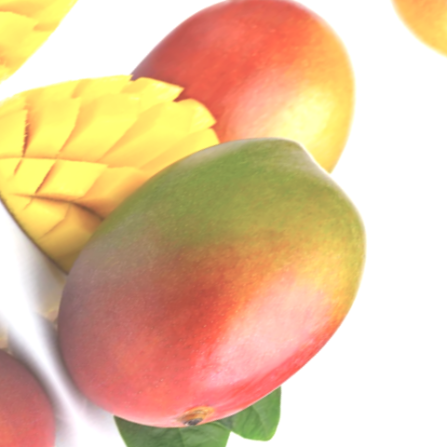mango: (0, 81, 433, 447), (54, 0, 424, 294)
